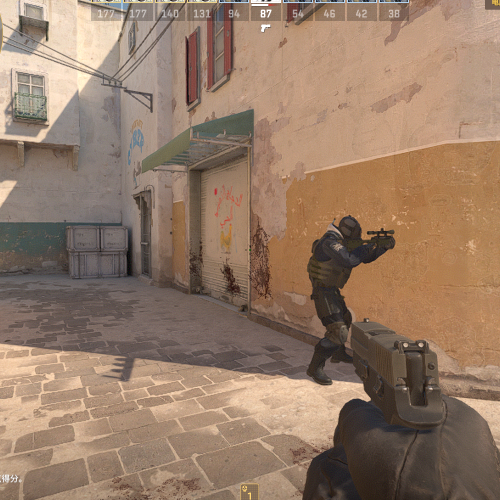ct_body: (306, 212, 368, 387)
ct_head: (337, 214, 363, 241)
